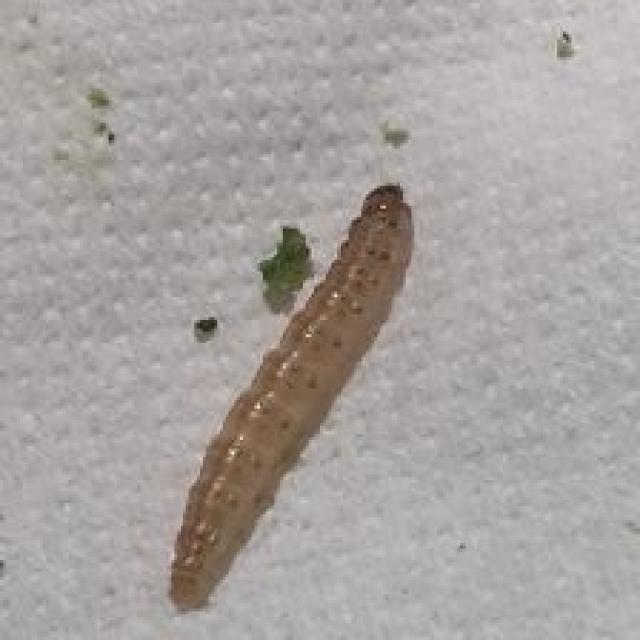white mucus: (147, 170, 455, 615)
